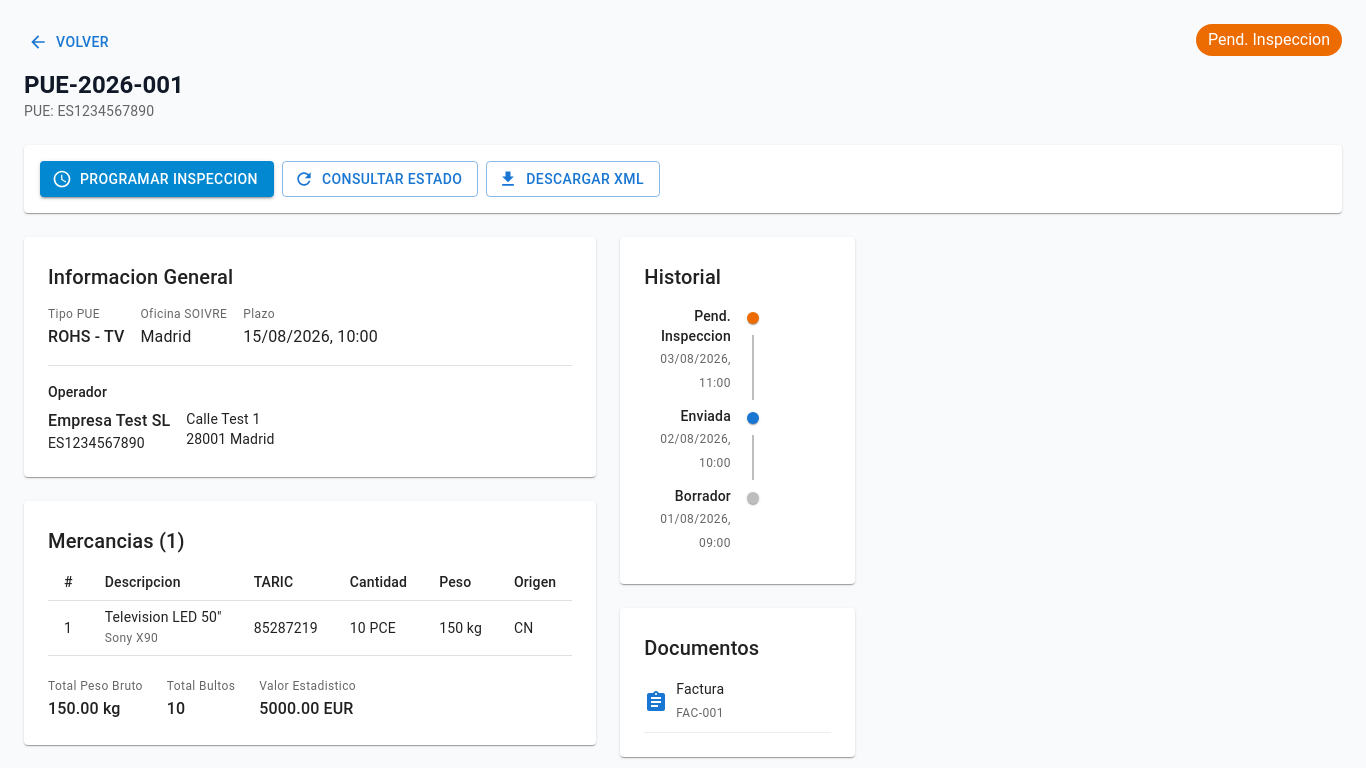
Test: PUERequestDetail › handleScheduleInspection dialog › opens schedule inspection dialog
The width and height of the screenshot is (1366, 768).
Expected: the heading "PUE-2026-001" is shown, x1=24 y1=68 x2=184 y2=100
Click the button "Programar Inspeccion" at [157, 179], box x1=40 y1=160 x2=274 y2=197
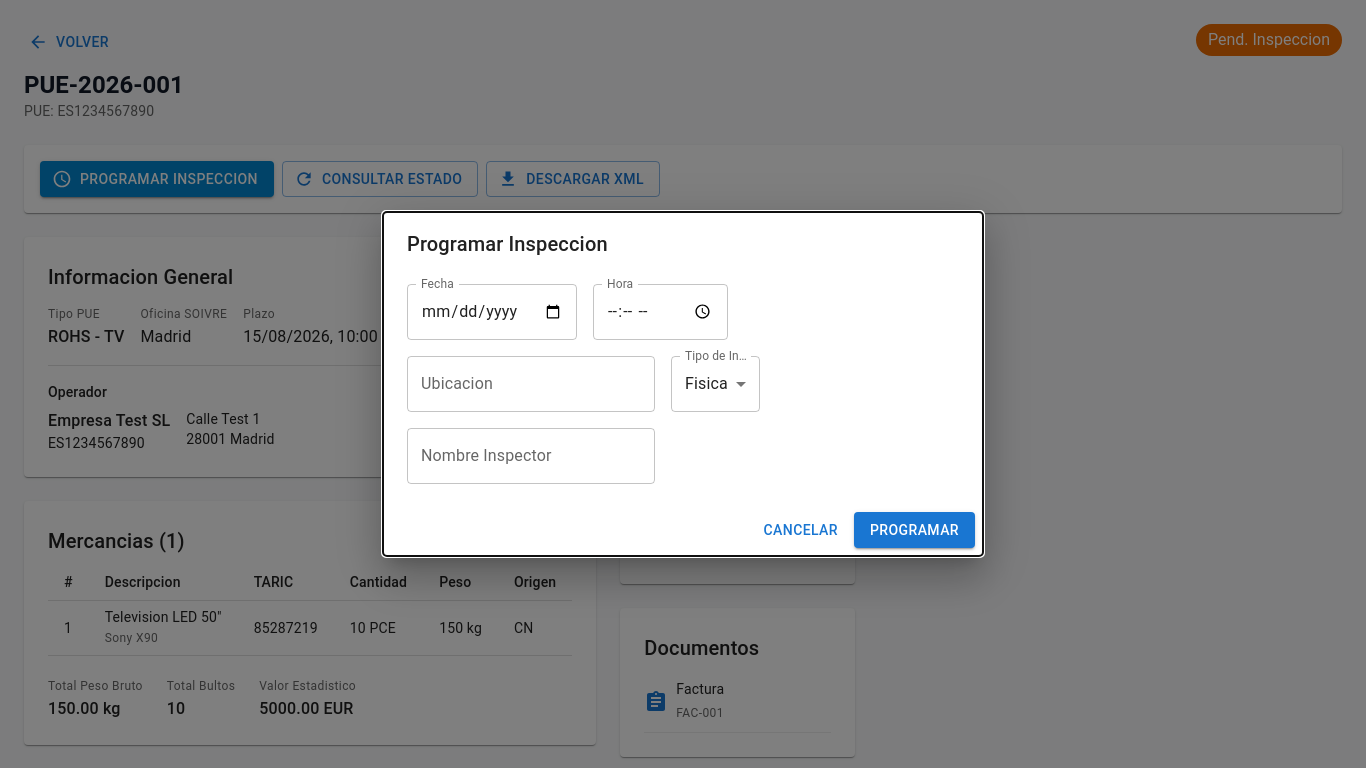
Result: the dialog is shown at x1=383 y1=212 x2=983 y2=556
Result: the date field labelled "Fecha" is shown at x1=407 y1=284 x2=577 y2=340
Result: the time field labelled "Hora" is shown at x1=593 y1=284 x2=728 y2=340
